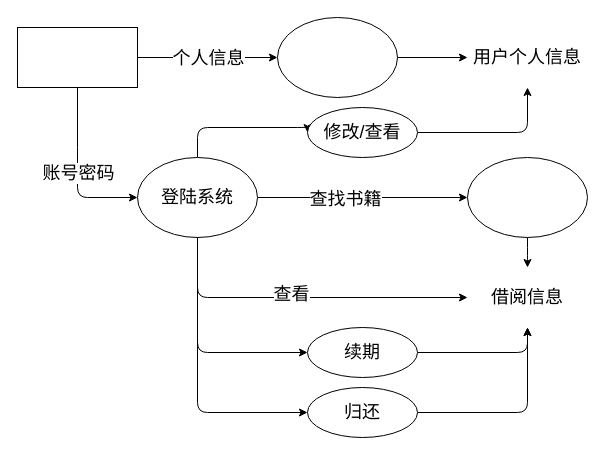
Some shapes in this 605 by 455 pixel diagram are drawn without their labels. Each missing label, with the centre of its shape:
借阅: the point at 527,197
普通用户: the point at 77,57
用户信息: the point at 337,57
